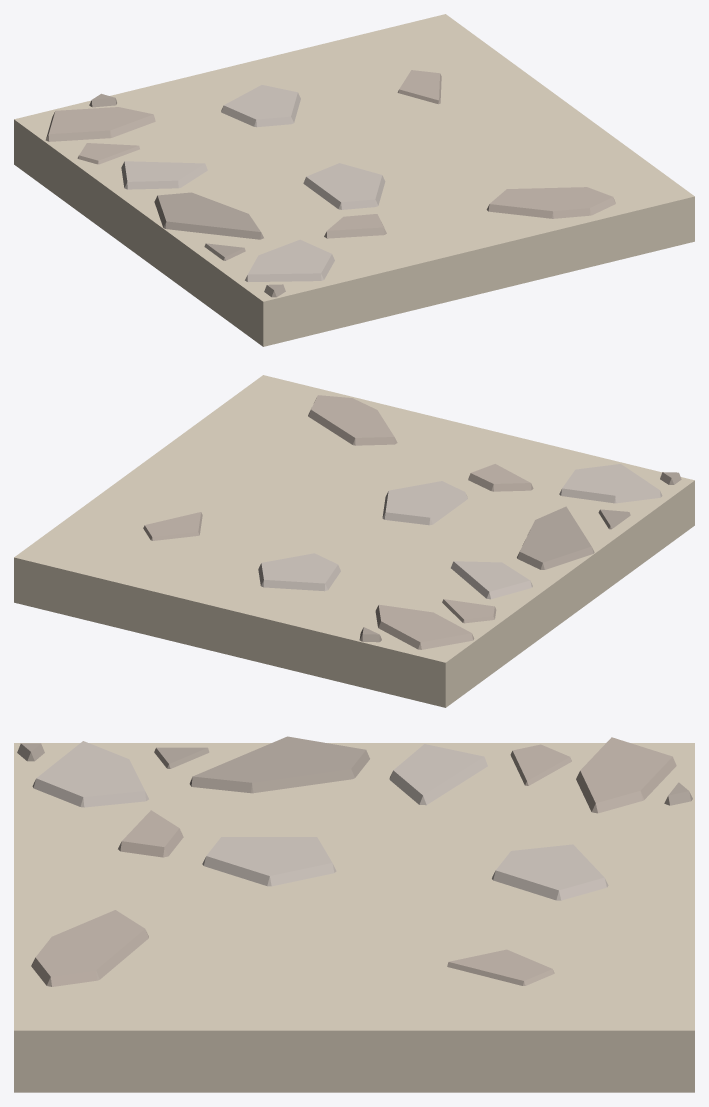
File: Cobblestone_Dirt_Transition_2.glb
The picture shows the model from 3 angles, top to bottom: view 1: azimuth 30°, elevation 25°; view 2: azimuth 150°, elevation 25°; view 3: azimuth 270°, elevation 25°; orthographic projection. The views are drawn at different scales.
Visible parts, largest first — view 1: object1; view 2: object1; view 3: object1.
Part boxes in pixels (bbox=[...]): object1: bbox=[14, 14, 694, 346]; object1: bbox=[14, 375, 694, 707]; object1: bbox=[14, 736, 694, 1092].
Bounding box in the file's own units: 2 × 0.2281 × 2.
